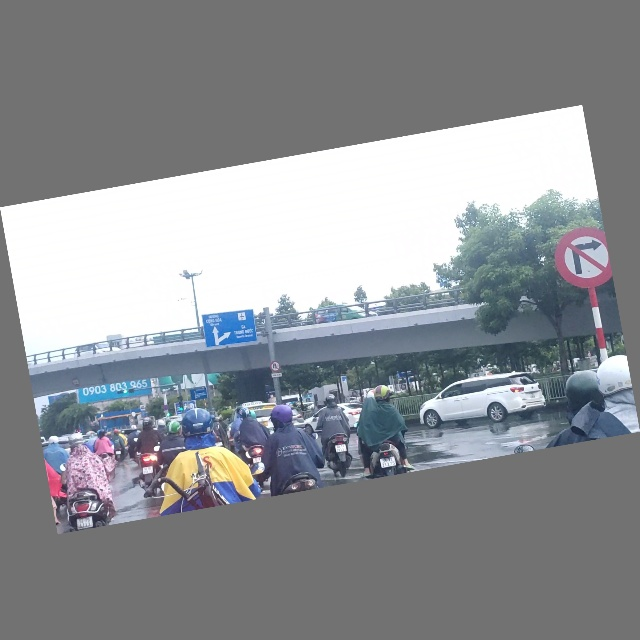P.123b: (549, 224, 614, 295)
P.124b1: (270, 361, 281, 374)
